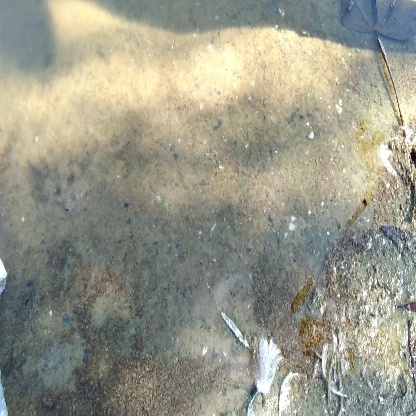branch: (358, 5, 410, 133)
